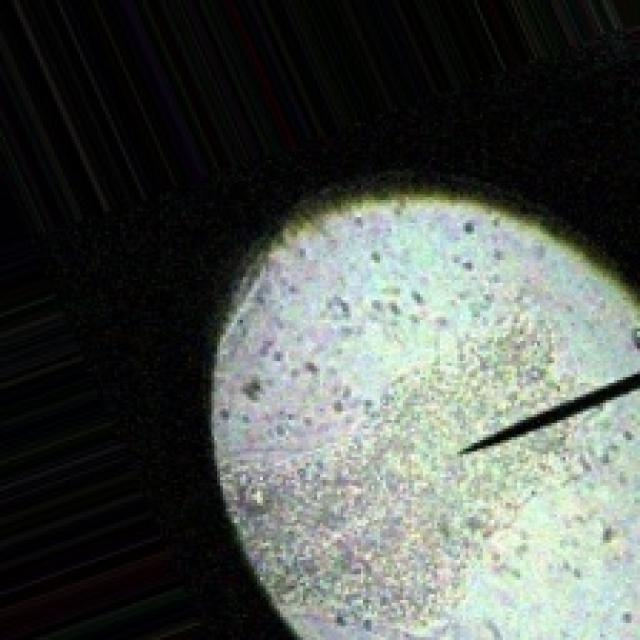Amoeba: (206, 177, 637, 637)
